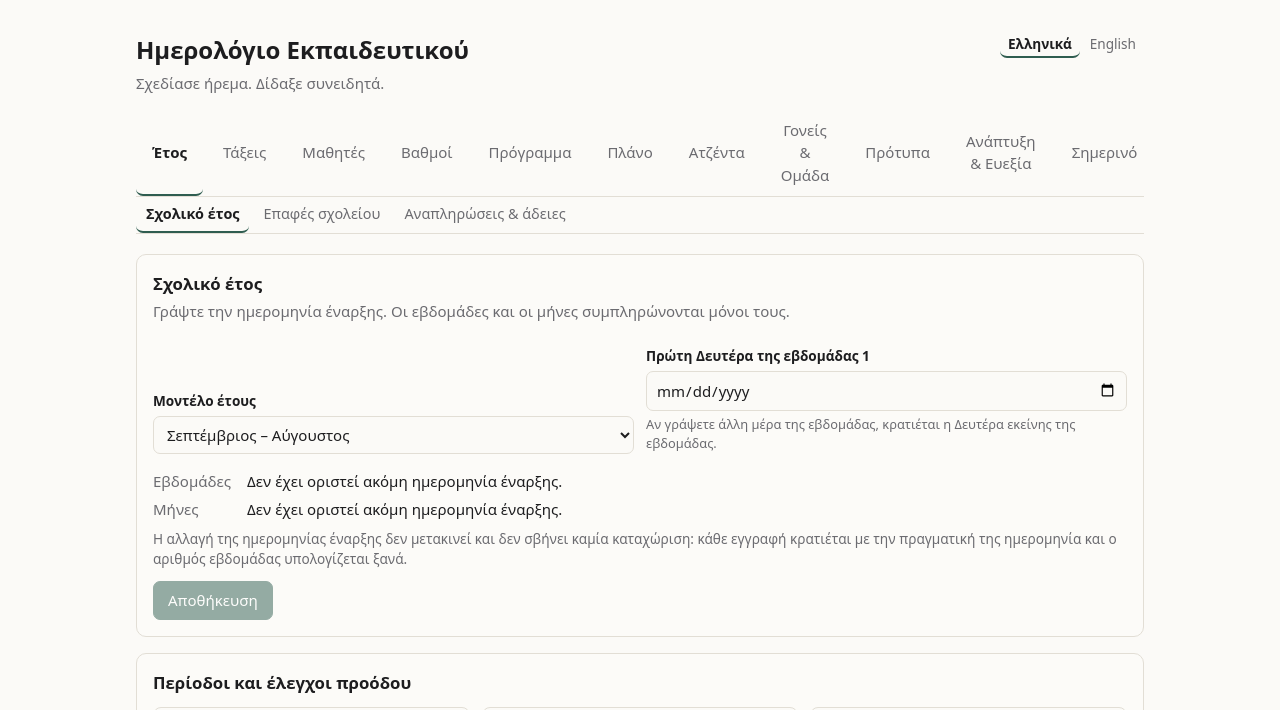
Test case: the app shell › reaches the four M3 sections
Expected: the heading "Σχολικό έτος" is shown, [153, 272, 262, 295]
Click the button "Πρόγραμμα": (530, 153) [473, 110, 587, 196]
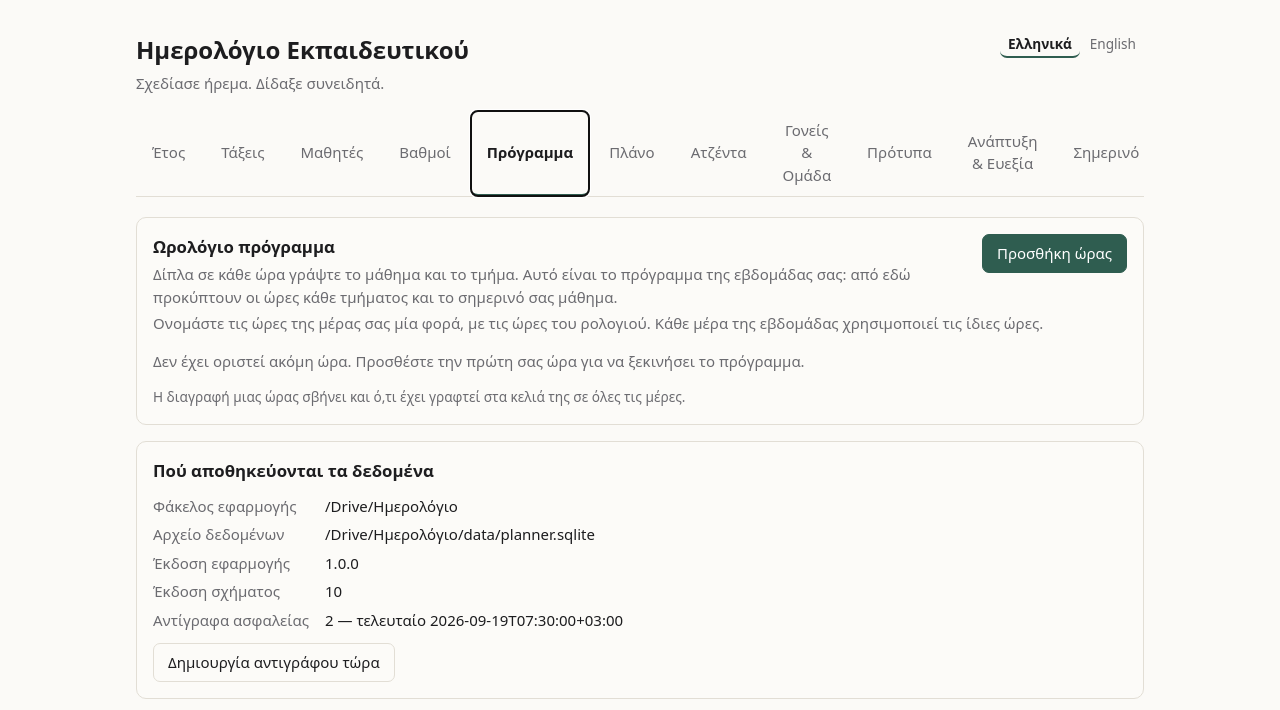
Expected: the heading "Ωρολόγιο πρόγραμμα" is shown, [153, 235, 335, 258]
Click the button "Πλάνο": (632, 153) [593, 110, 671, 196]
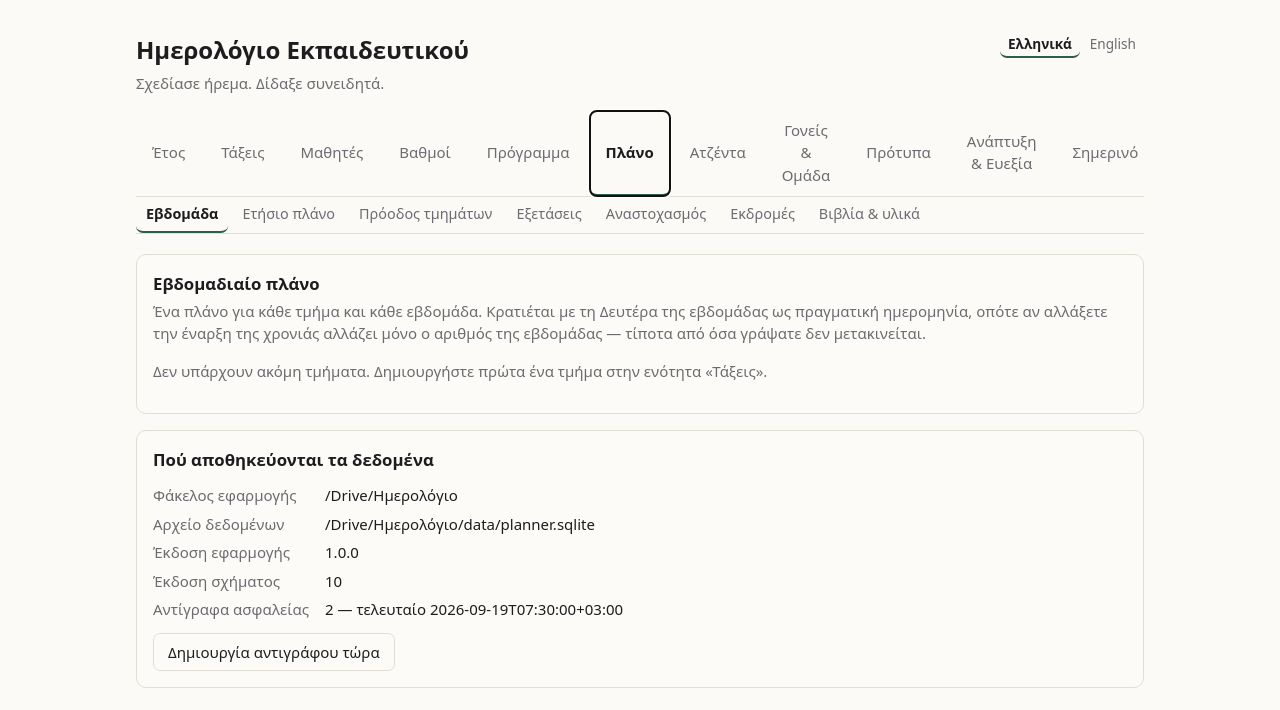
Expected: the heading "Εβδομαδιαίο πλάνο" is shown, [153, 272, 320, 295]
Click the button "Ατζέντα": (718, 153) [674, 110, 762, 196]
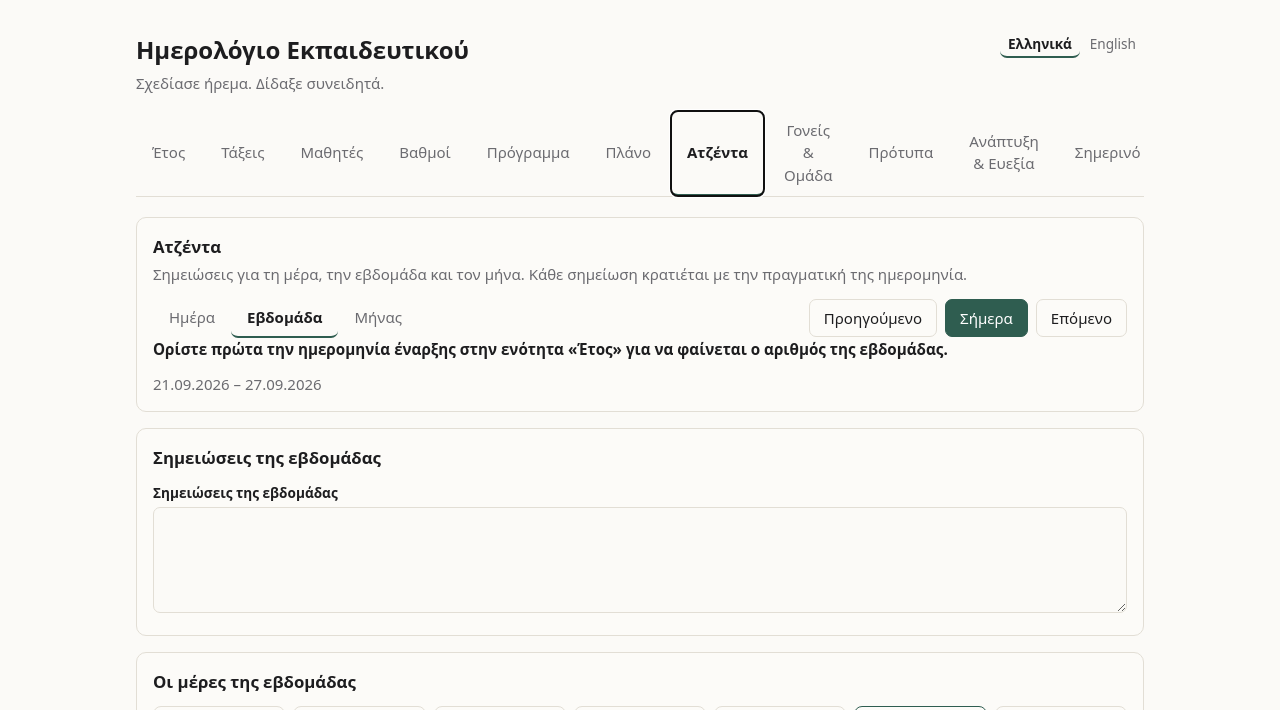
Expected: the heading "Ατζέντα" is shown, [153, 235, 221, 258]
Click the button "Σημερινό": (1108, 153) [1059, 110, 1157, 196]
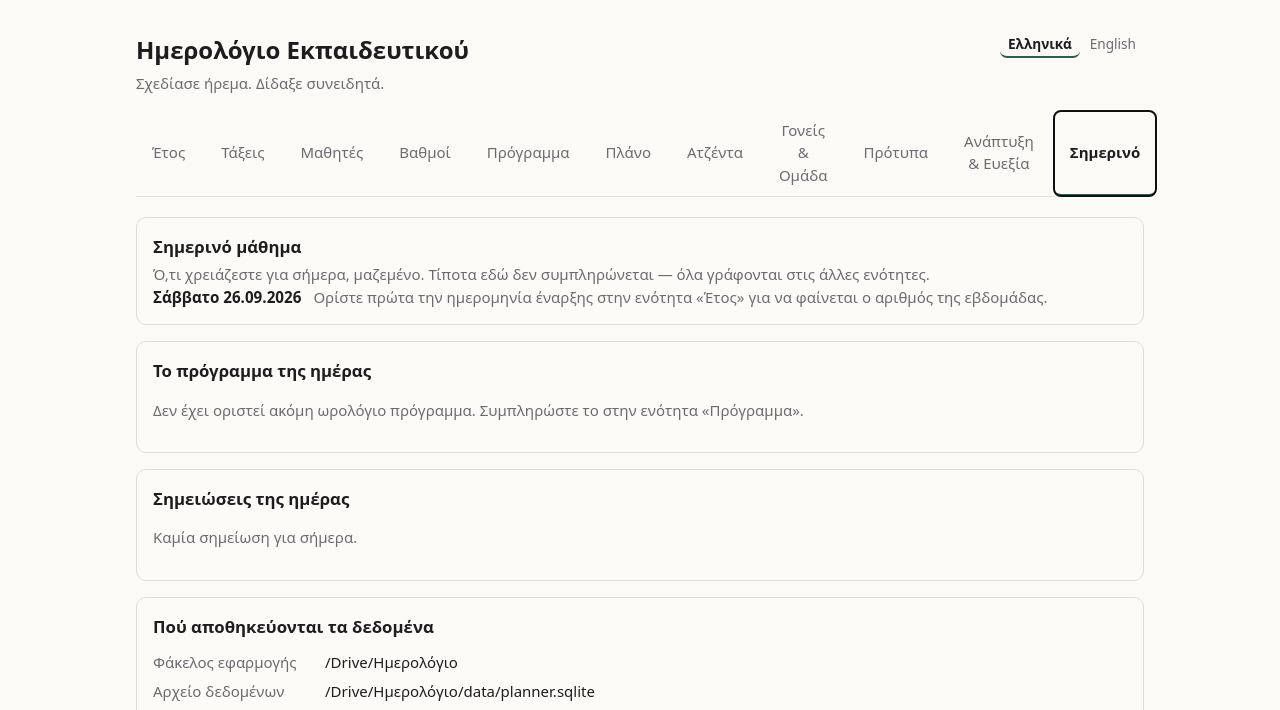
Expected: the heading "Σημερινό μάθημα" is shown, [153, 235, 301, 258]
